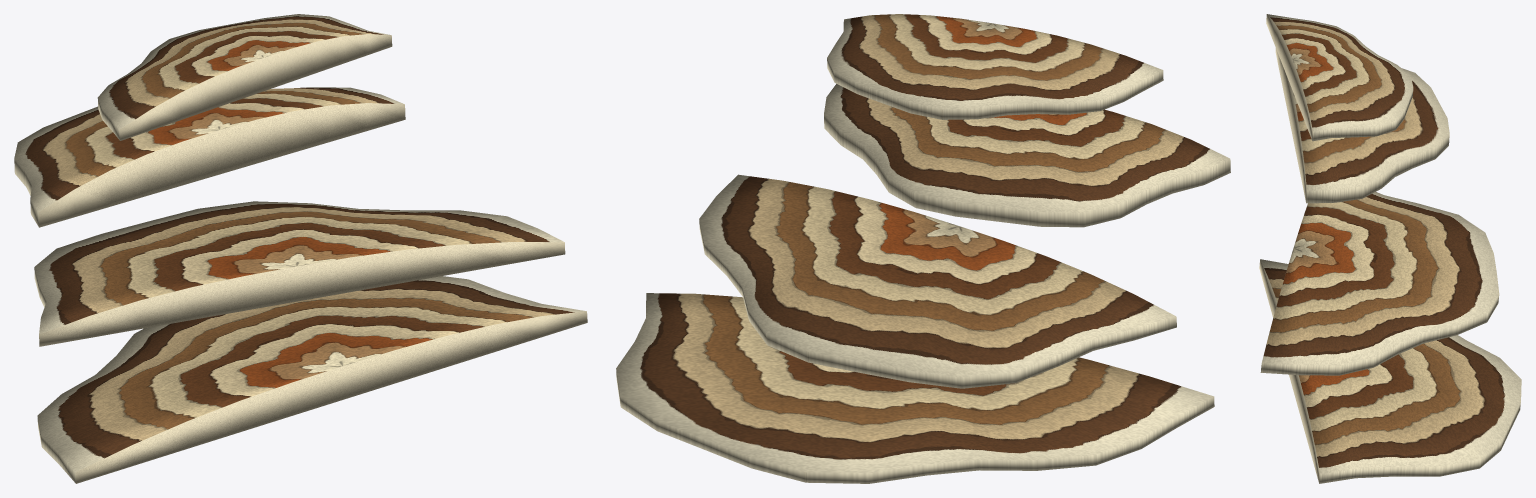
Rendered from bracket_fungus_v01.fbx.
The picture shows the model from 3 angles, left to right: view 1: azimuth 30°, elevation 25°; view 2: azimuth 150°, elevation 25°; view 3: azimuth 270°, elevation 25°; orthographic projection. The views are drawn at different scales.
Visible parts, largest first — view 1: bracket_fungus_v01; view 2: bracket_fungus_v01; view 3: bracket_fungus_v01.
Boxes of the visible parts, x1,y1,x2,y2 form: bracket_fungus_v01: (14, 14, 587, 483); bracket_fungus_v01: (616, 14, 1230, 483); bracket_fungus_v01: (1259, 14, 1521, 483).
Bounding box in the file's own units: 18.49 × 9.06 × 11.75.
Materials: 2 (2 with a texture image).
